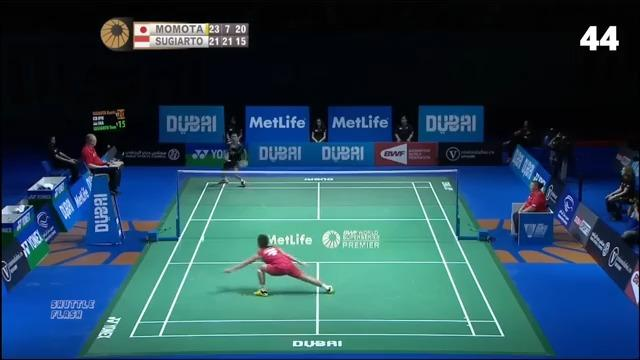Shuttlecock: (198, 233, 208, 245)
